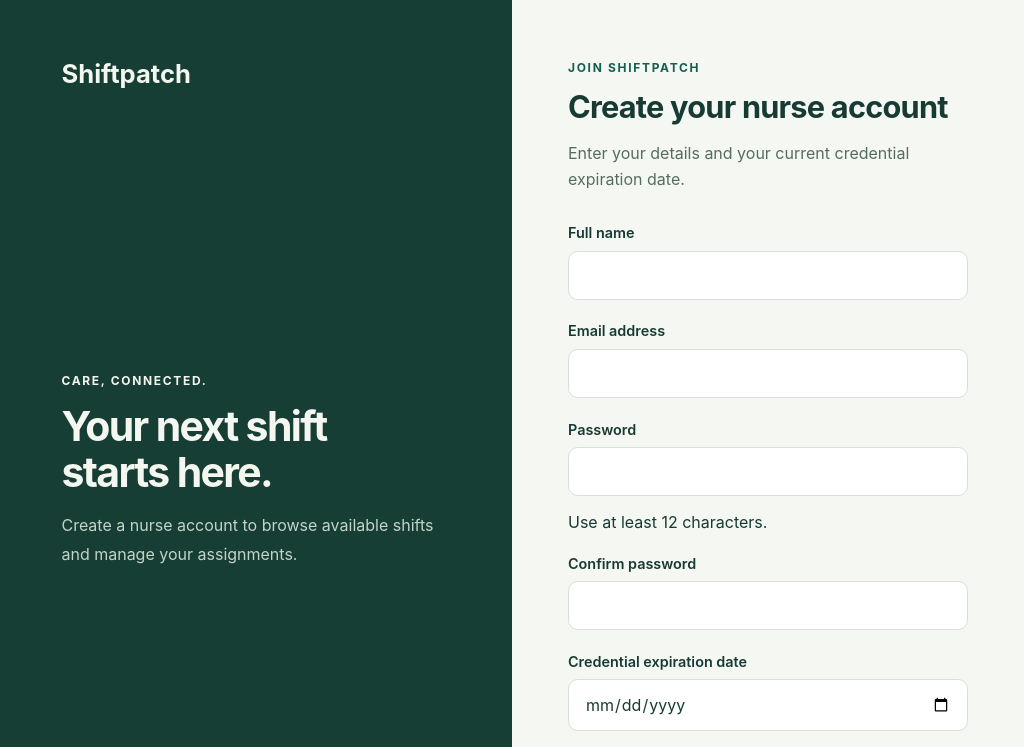
handles HTTP 409 while keeping the form available
The image size is (1024, 747).
In the field labelled "Full name": (768, 275) x1=568 y1=251 x2=968 y2=300, type " New Nurse "
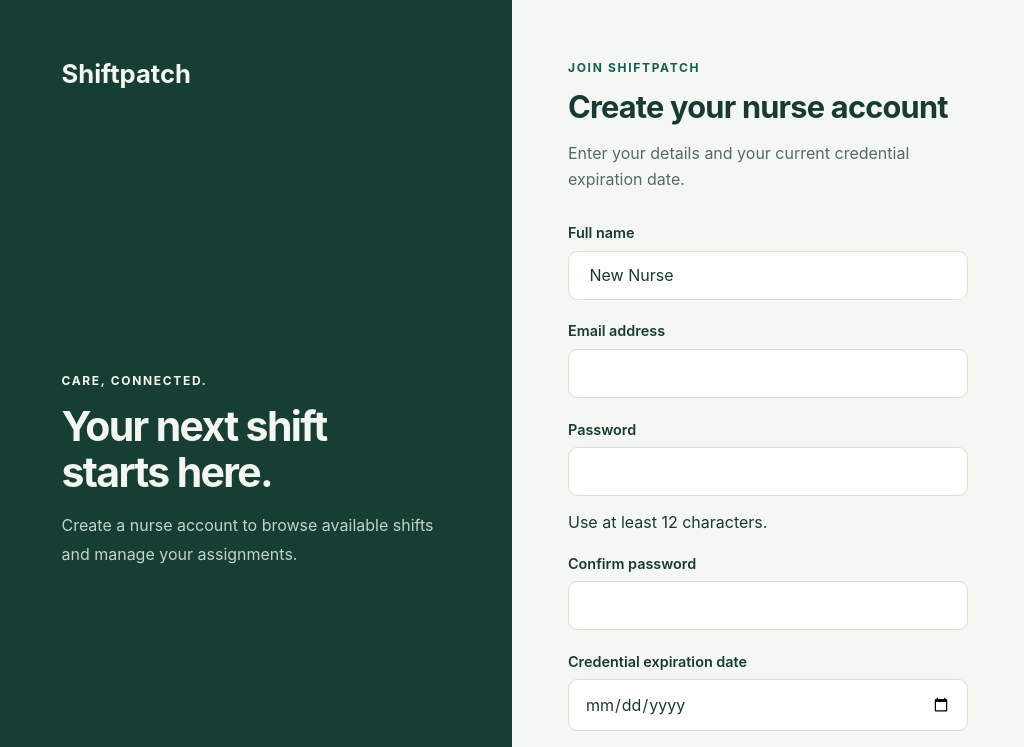
In the field labelled "Email address": (768, 374) x1=568 y1=349 x2=968 y2=398, type "new@example.com"
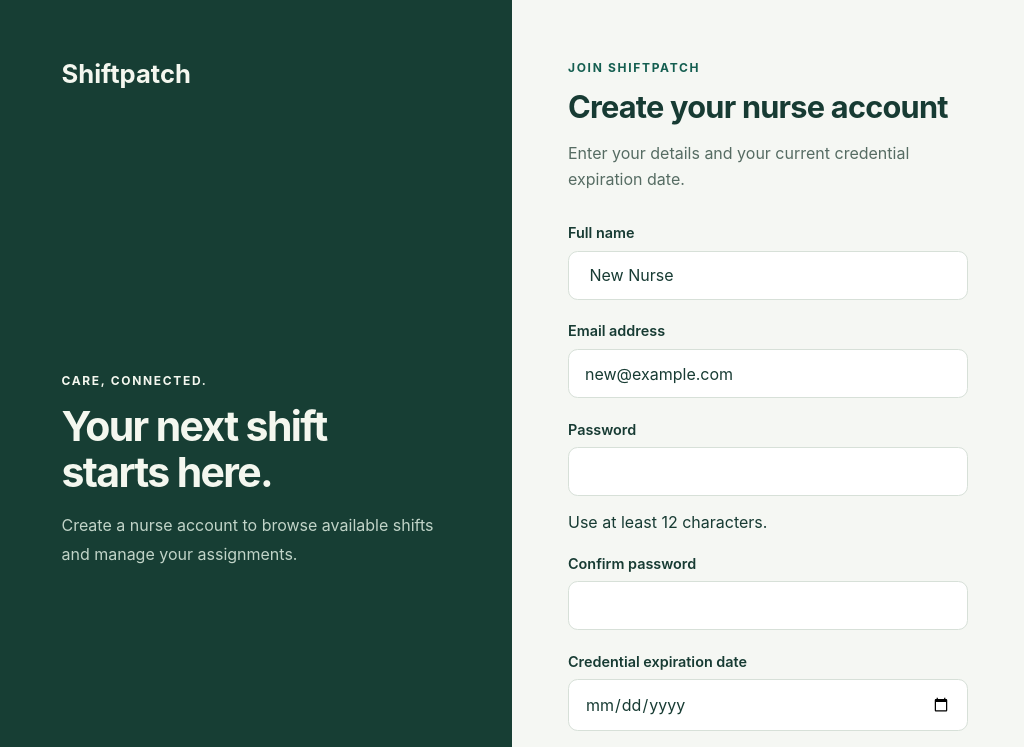
In the password field labelled "Password": (768, 472) x1=568 y1=447 x2=968 y2=496, type "A nurse passphrase!"
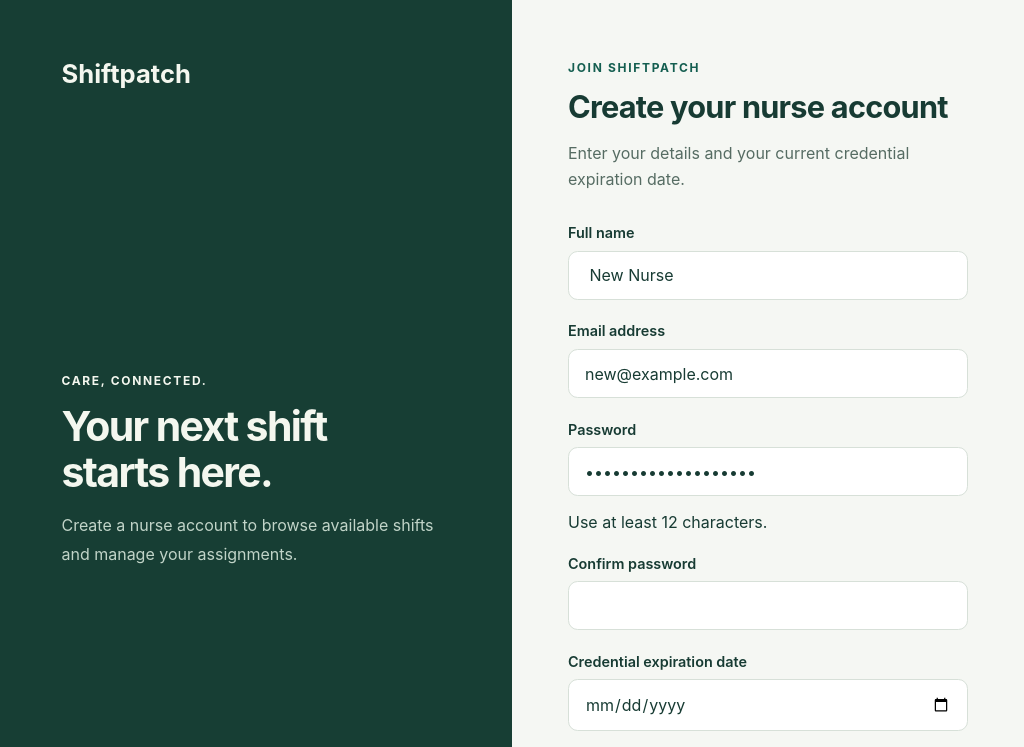
In the password field labelled "Confirm password": (768, 606) x1=568 y1=581 x2=968 y2=630, type "A nurse passphrase!"
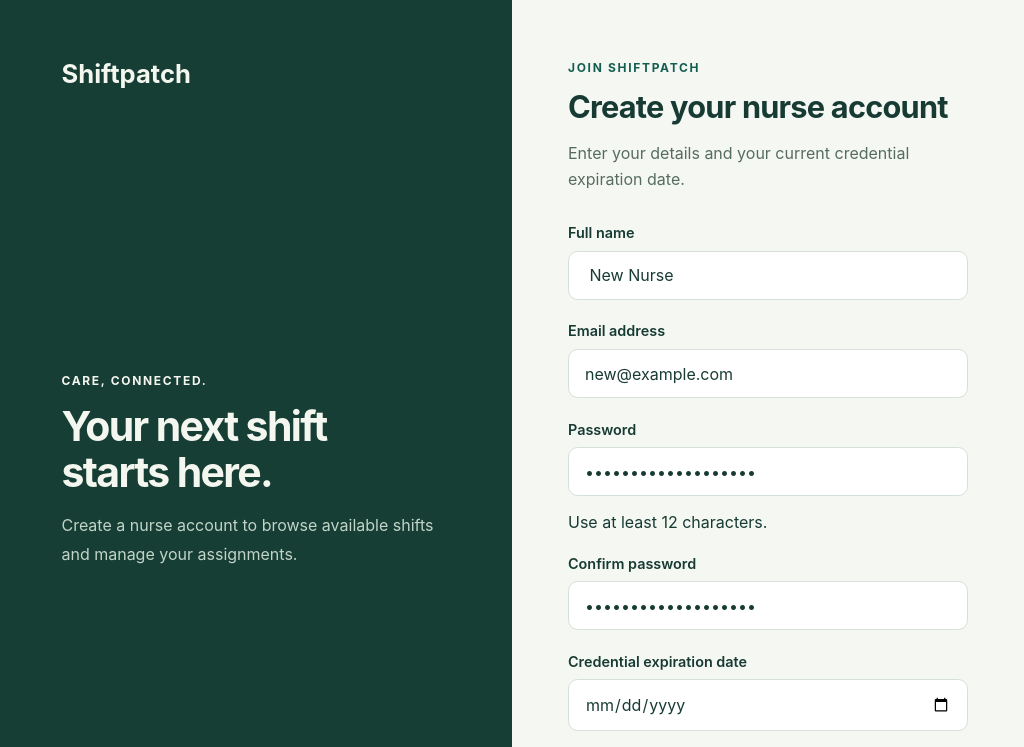
In the date field labelled "Credential expiration date": (768, 705) x1=568 y1=680 x2=968 y2=731, type "2027-12-31"
(page scrolled)
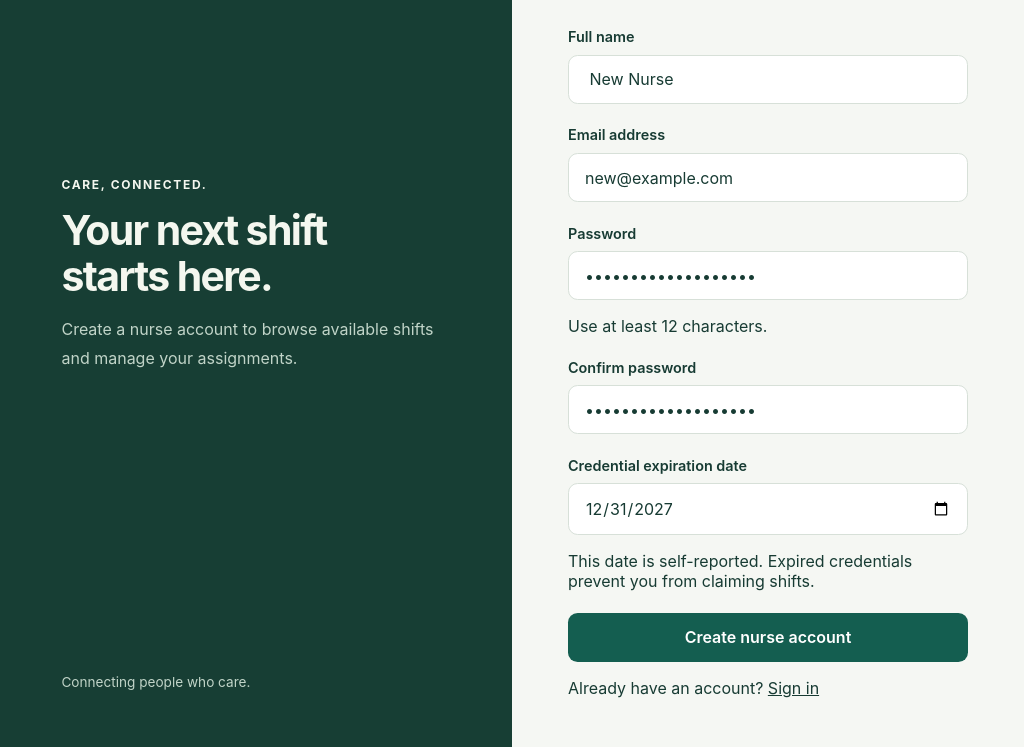
Click the button "Create nurse account": (768, 637) x1=568 y1=613 x2=968 y2=662
(page scrolled)
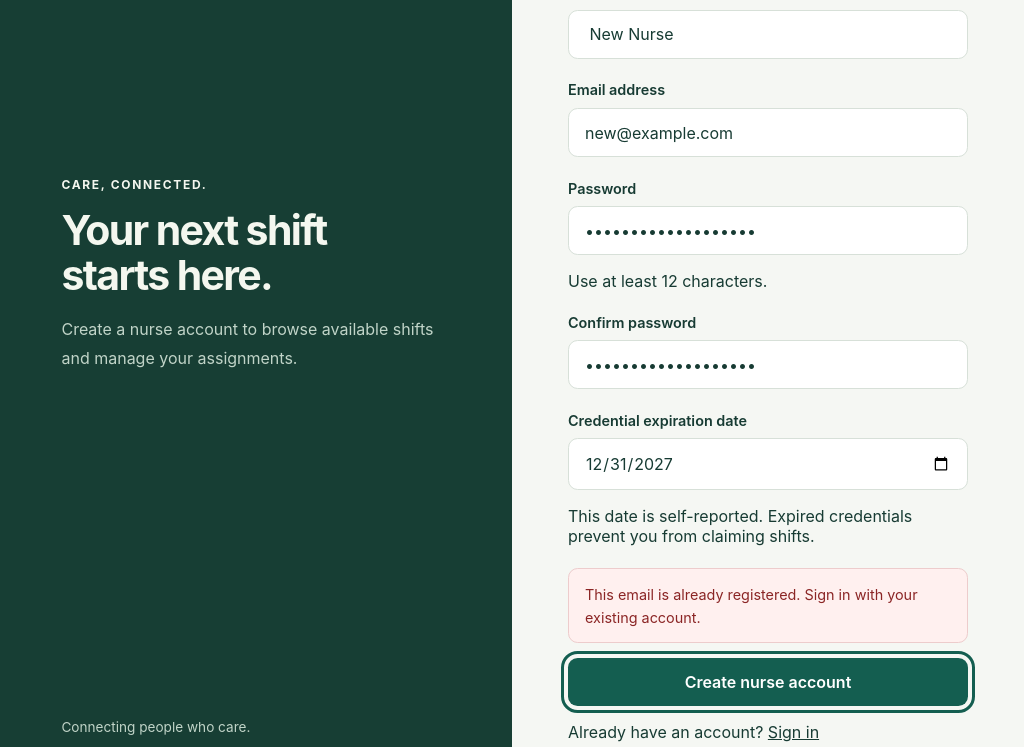
expect the message shows "already registered": met, box x1=585 y1=586 x2=918 y2=626
